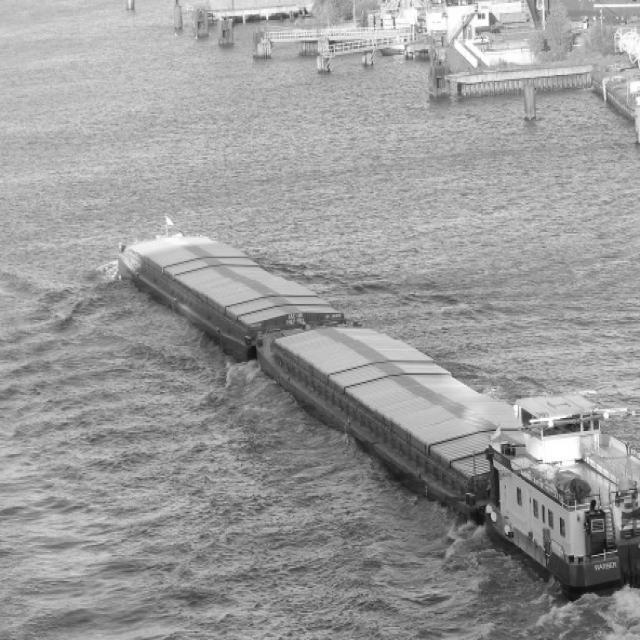tugboat: (476, 387, 640, 619)
